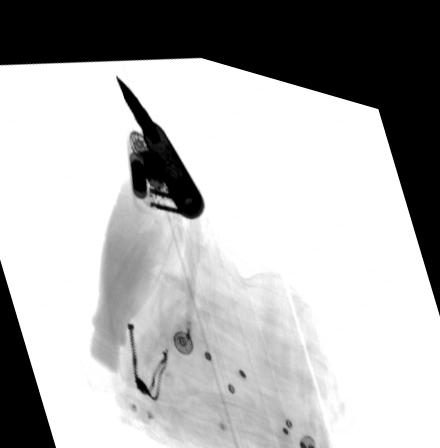Bullet: (113, 65, 205, 209)
